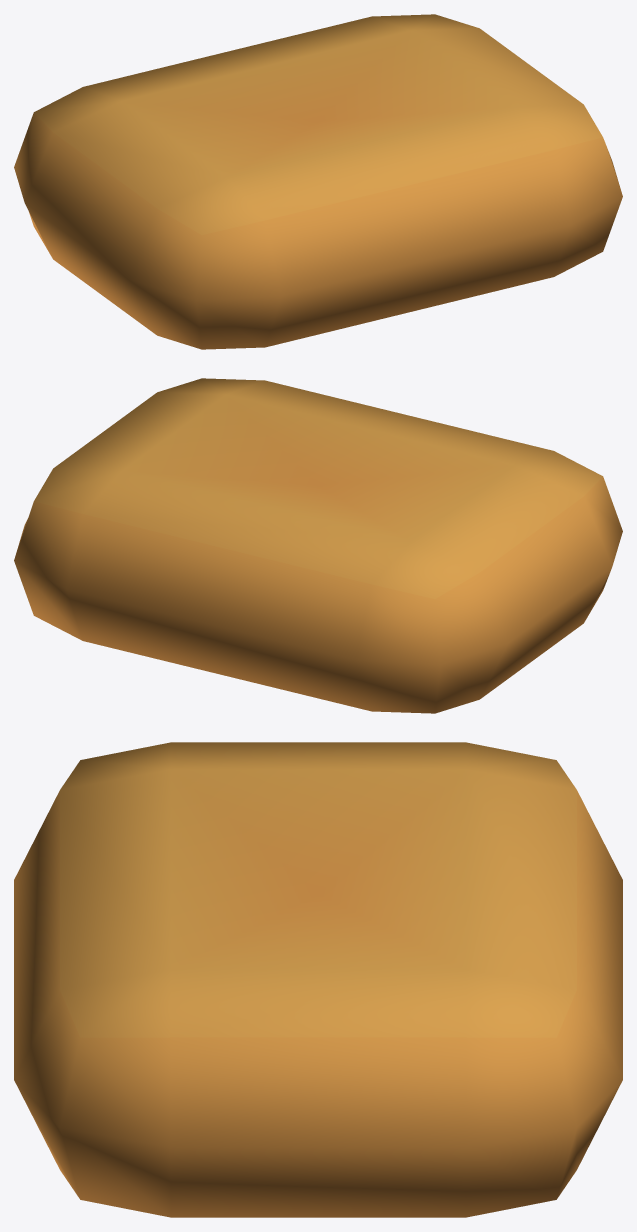
File: K_pillow_A.glb
The picture shows the model from 3 angles, top to bottom: view 1: azimuth 30°, elevation 25°; view 2: azimuth 150°, elevation 25°; view 3: azimuth 270°, elevation 25°; orthographic projection. The views are drawn at different scales.
Visible parts, largest first — view 1: pillow_A; view 2: pillow_A; view 3: pillow_A.
Part boxes in pixels (x1,y1,x2,y2): pillow_A: (14, 14, 622, 349); pillow_A: (14, 378, 622, 713); pillow_A: (14, 742, 622, 1217).
Size of the model in its own units: 0.65 by 0.2 by 0.5.
